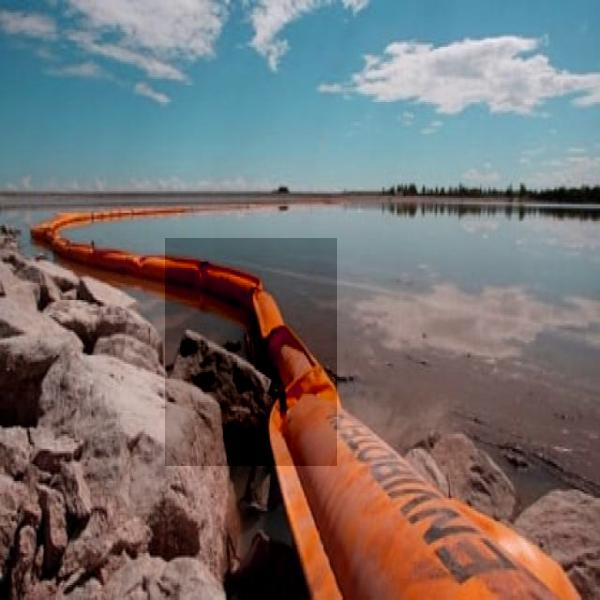water: (165, 238, 337, 466)
